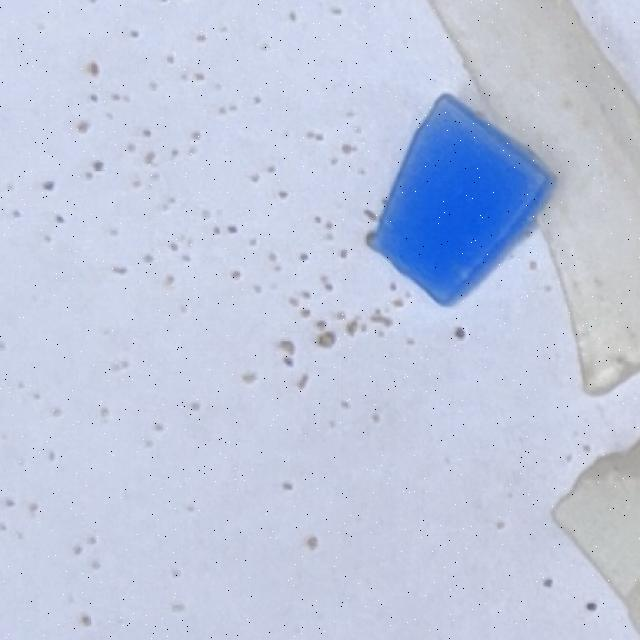fragments: (343, 91, 566, 320)
